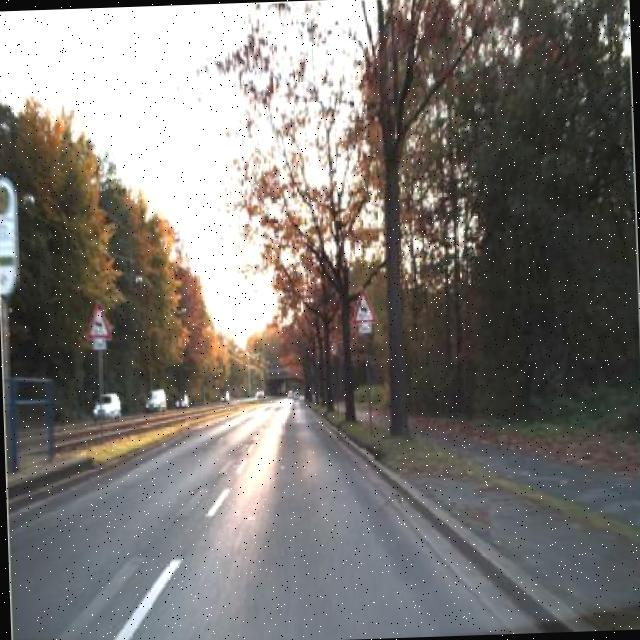Ograniczenie predkosci do 70: (328, 337, 340, 359)
